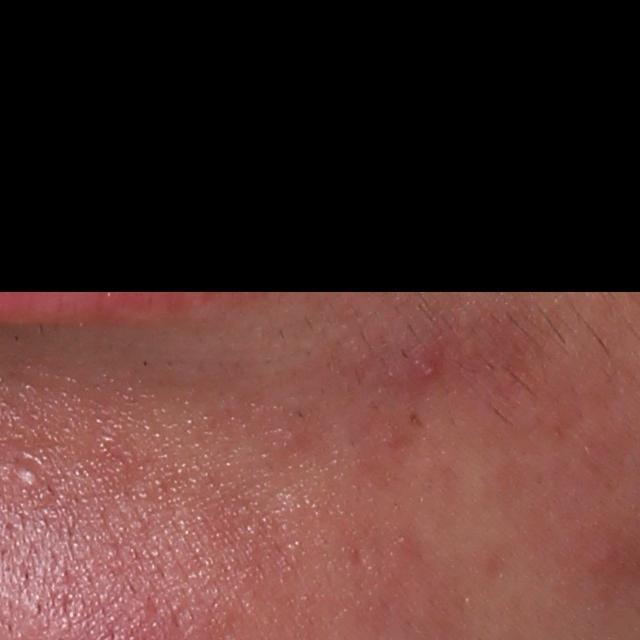papule: (405, 352, 440, 390)
pustule: (8, 458, 44, 490)
